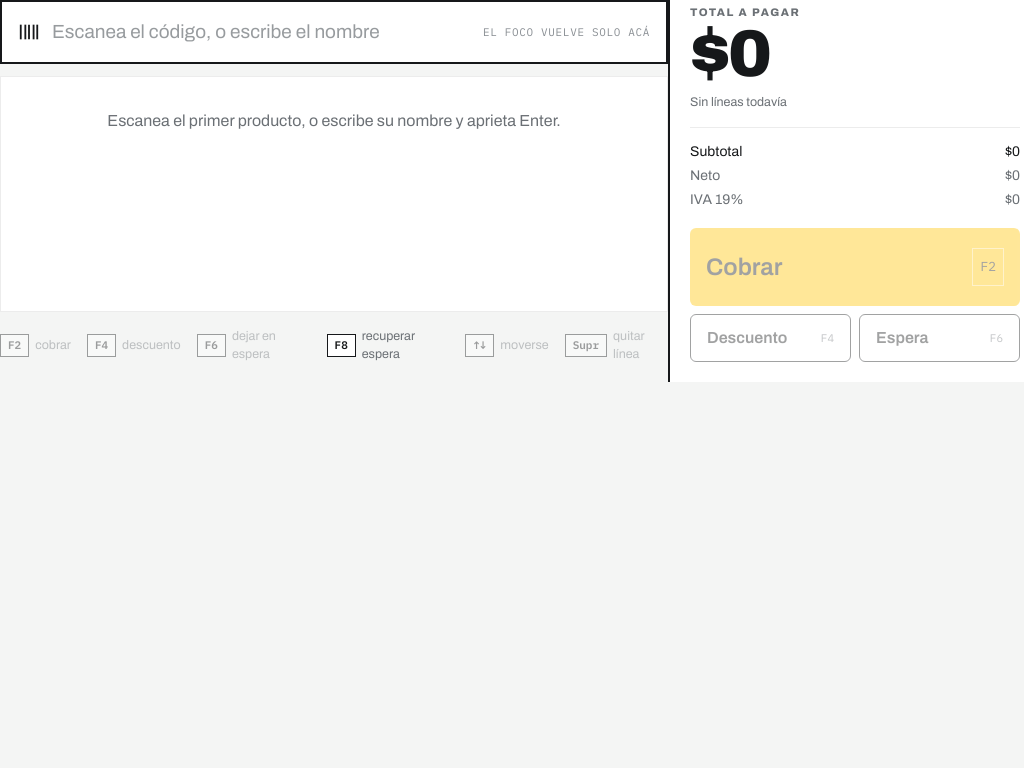
Test: pagando en efectivo › los billetes rápidos suman entre sí
In the dropdown: coordinates (262, 32) 52,18 -> 471,46, type "FH-00010"
Then press Enter
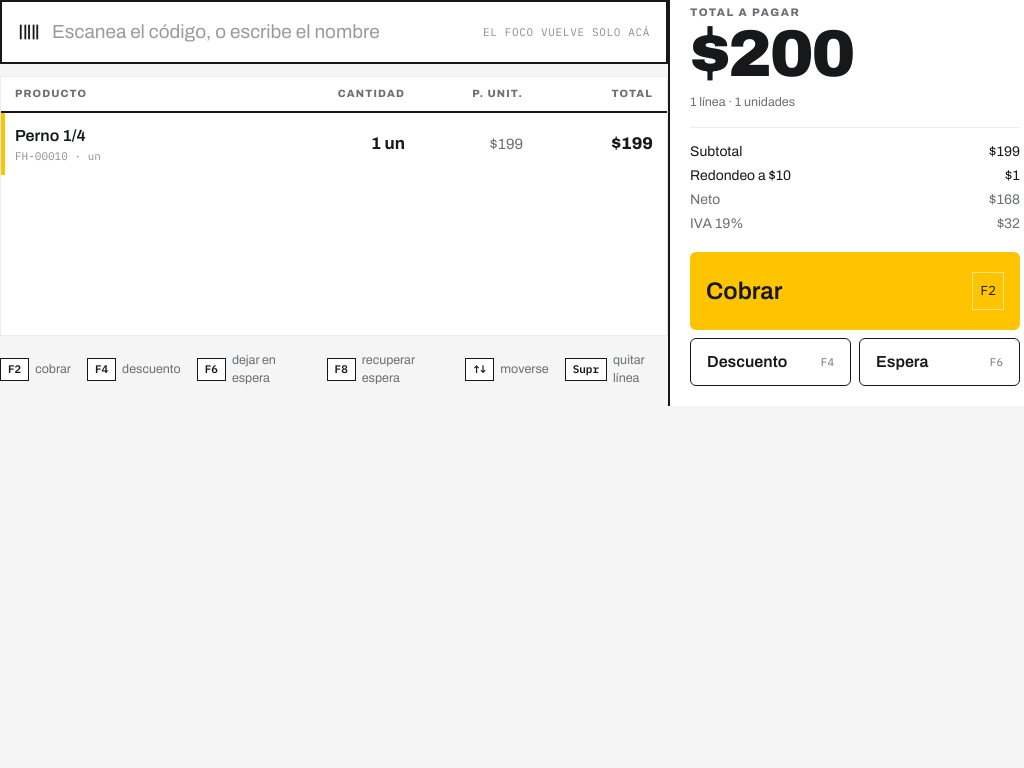
Now the table is shown, box 1,77 -> 667,175
Press F2
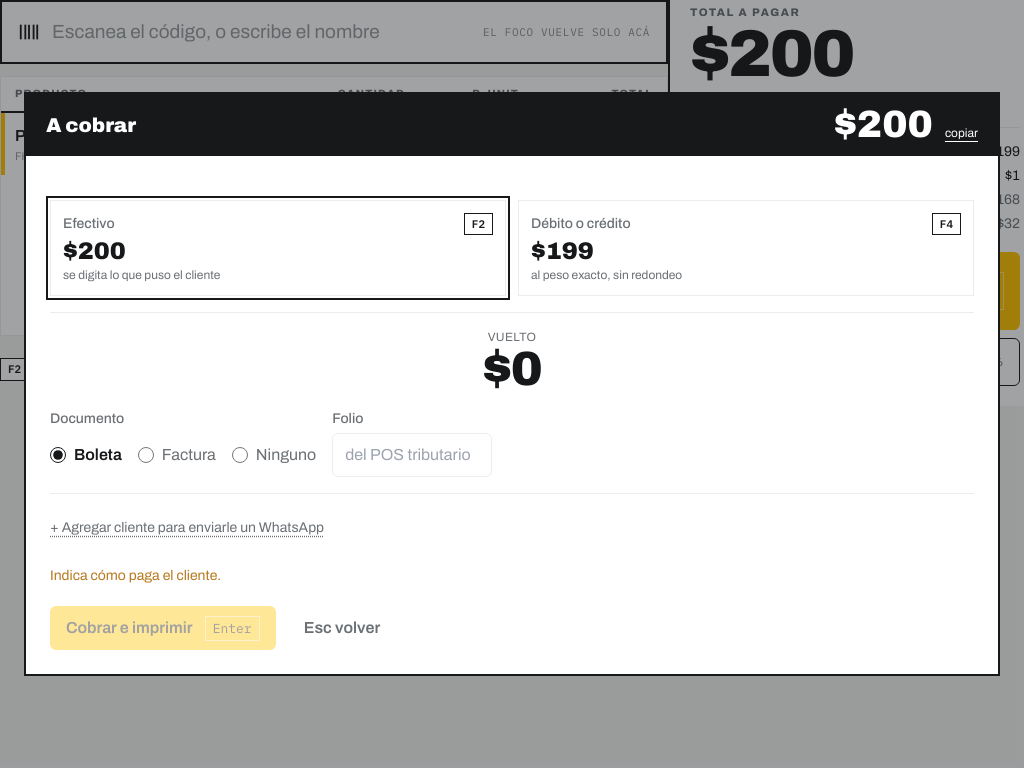
Now the dialog is shown
Click the button "Efectivo F2 $200 se digita lo que puso el cliente": coordinates (89, 224) 50,200 -> 506,296
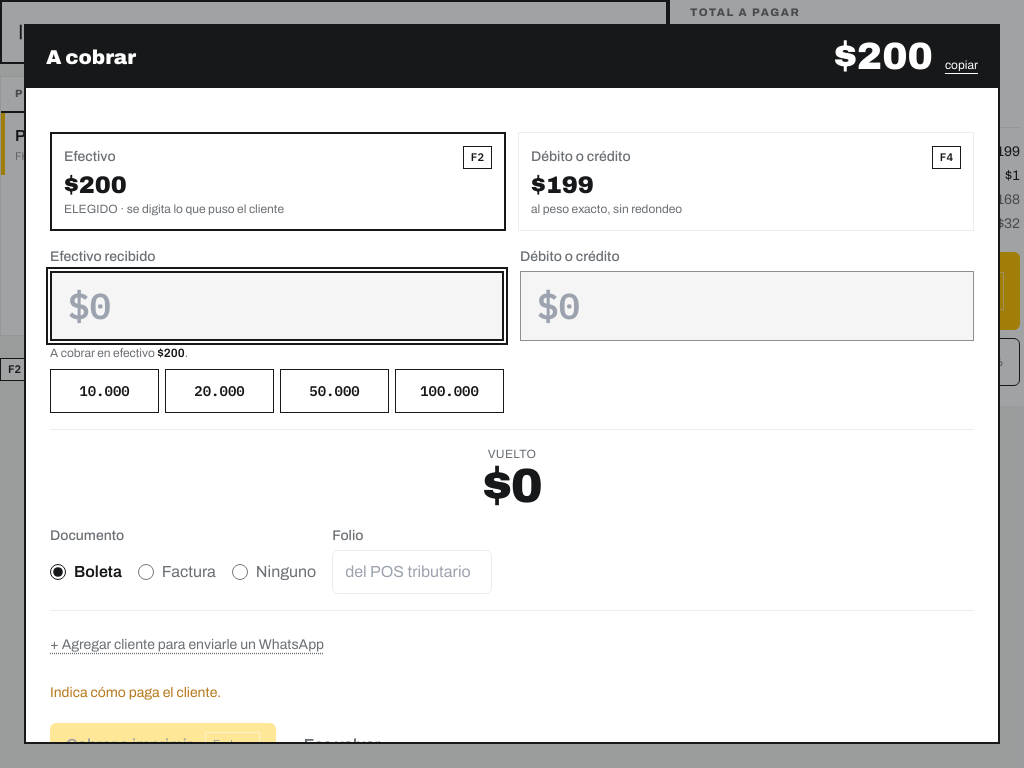
Click the button "20.000": coordinates (220, 390) 165,368 -> 274,412
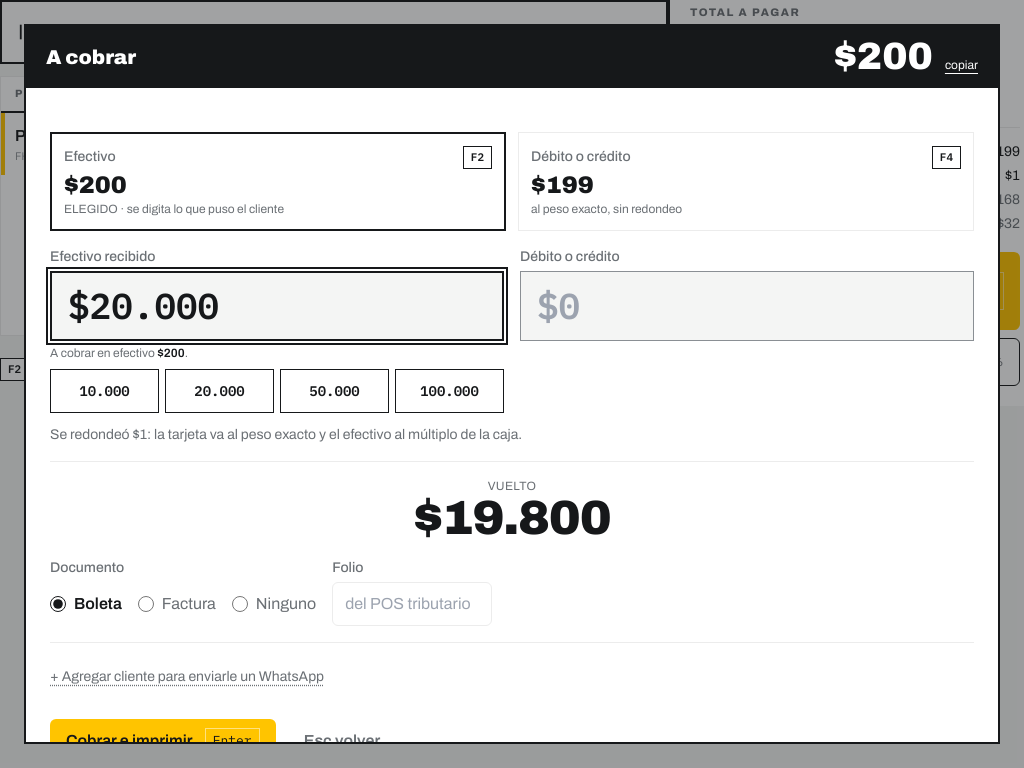
Click the button "20.000": coordinates (220, 390) 165,368 -> 274,412
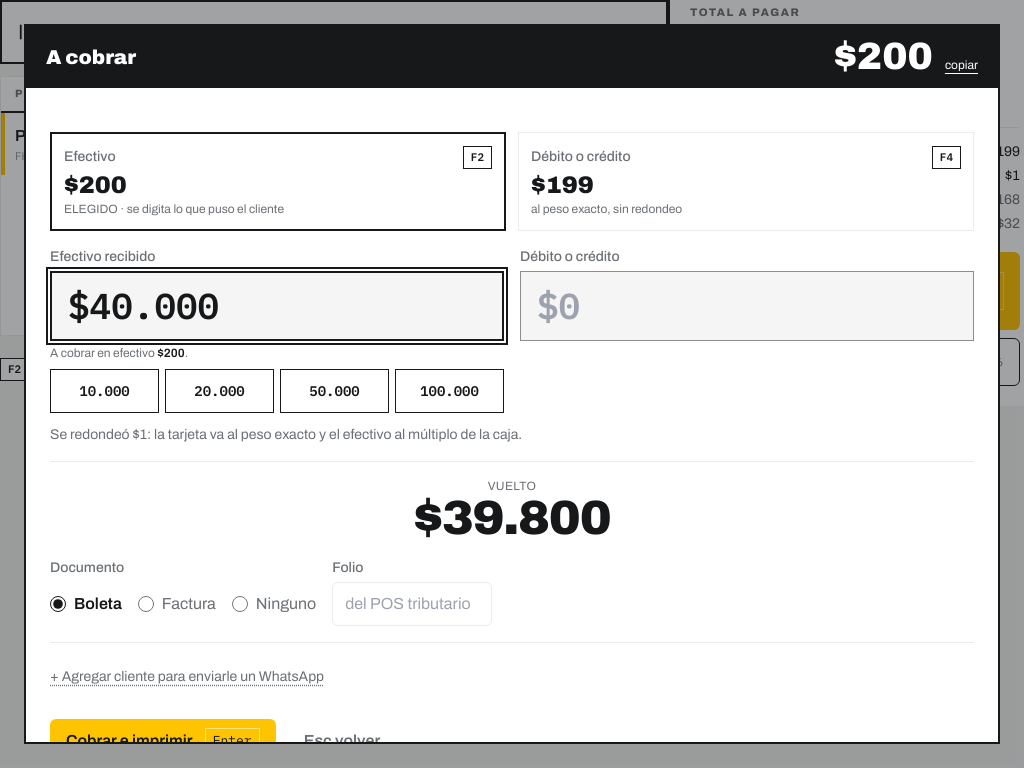
Now the field labelled "Efectivo recibido" holds "$40.000", box 50,270 -> 504,340
